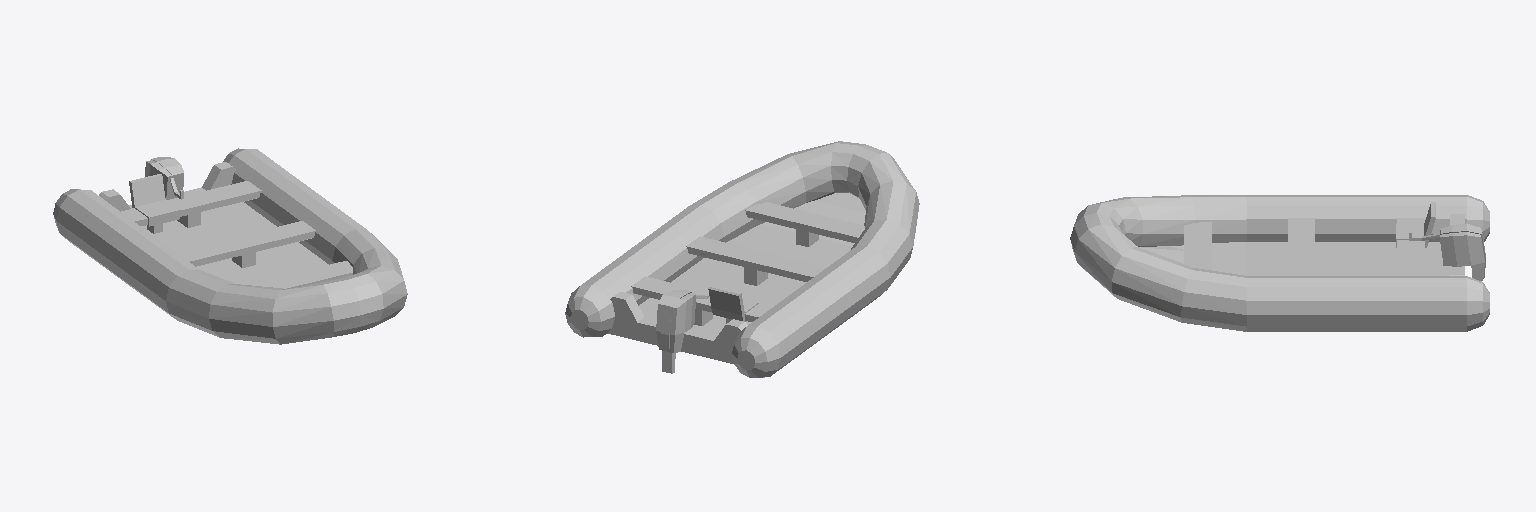
The model's file is rhib.obj.
3 views of the same model, side by side, from view 1: azimuth 30°, elevation 25°; view 2: azimuth 150°, elevation 25°; view 3: azimuth 270°, elevation 25° (orthographic).
Visible parts, largest first — view 1: RHIB_Cube; view 2: RHIB_Cube; view 3: RHIB_Cube.
Part boxes in pixels (bbox=[...]): RHIB_Cube: bbox=[53, 148, 407, 344]; RHIB_Cube: bbox=[565, 141, 919, 377]; RHIB_Cube: bbox=[1070, 195, 1489, 331].
Bounding box in the file's own units: 3.4 × 1.32 × 5.8.